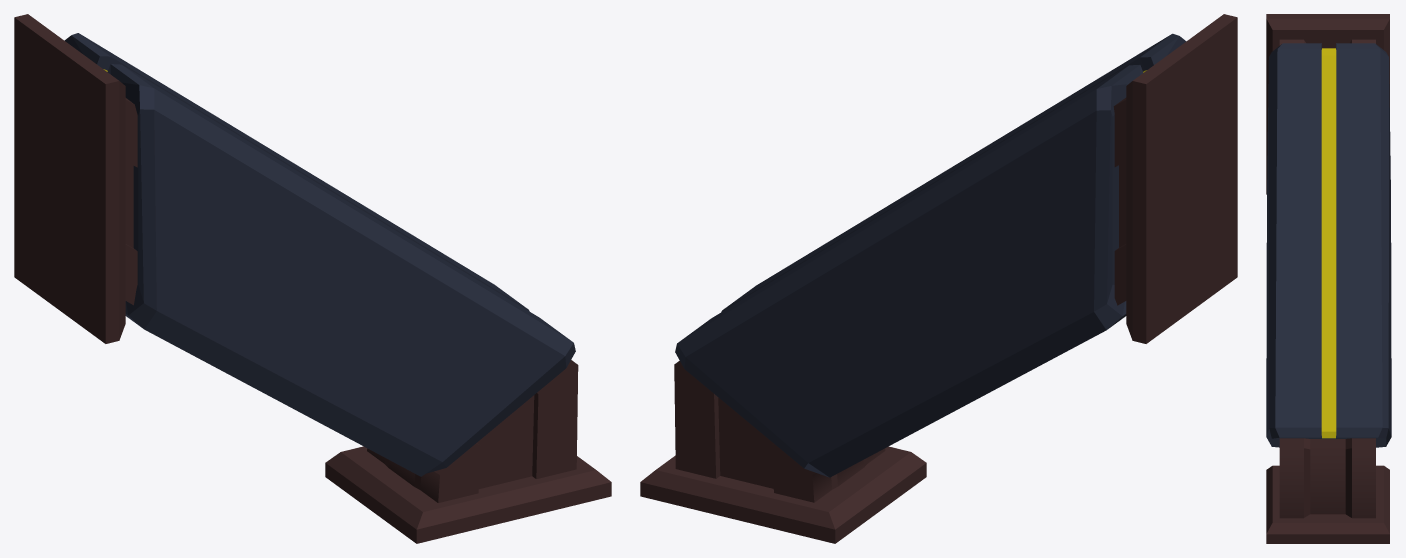
File: Module_Ss_ass_CO3.FBX
3 renders of one model, left to right at view 1: azimuth 30°, elevation 25°; view 2: azimuth 150°, elevation 25°; view 3: azimuth 270°, elevation 25°, orthographic. The views are drawn at different scales.
Visible parts, largest first — view 1: Module_Ss_ass_CO3; view 2: Module_Ss_ass_CO3; view 3: Module_Ss_ass_CO3.
Part boxes in pixels (bbox=[...]): Module_Ss_ass_CO3: bbox=[14, 14, 611, 543]; Module_Ss_ass_CO3: bbox=[640, 14, 1237, 543]; Module_Ss_ass_CO3: bbox=[1266, 14, 1391, 543].
Bounding box in the file's own units: 42.39 × 42.88 × 13.44.
